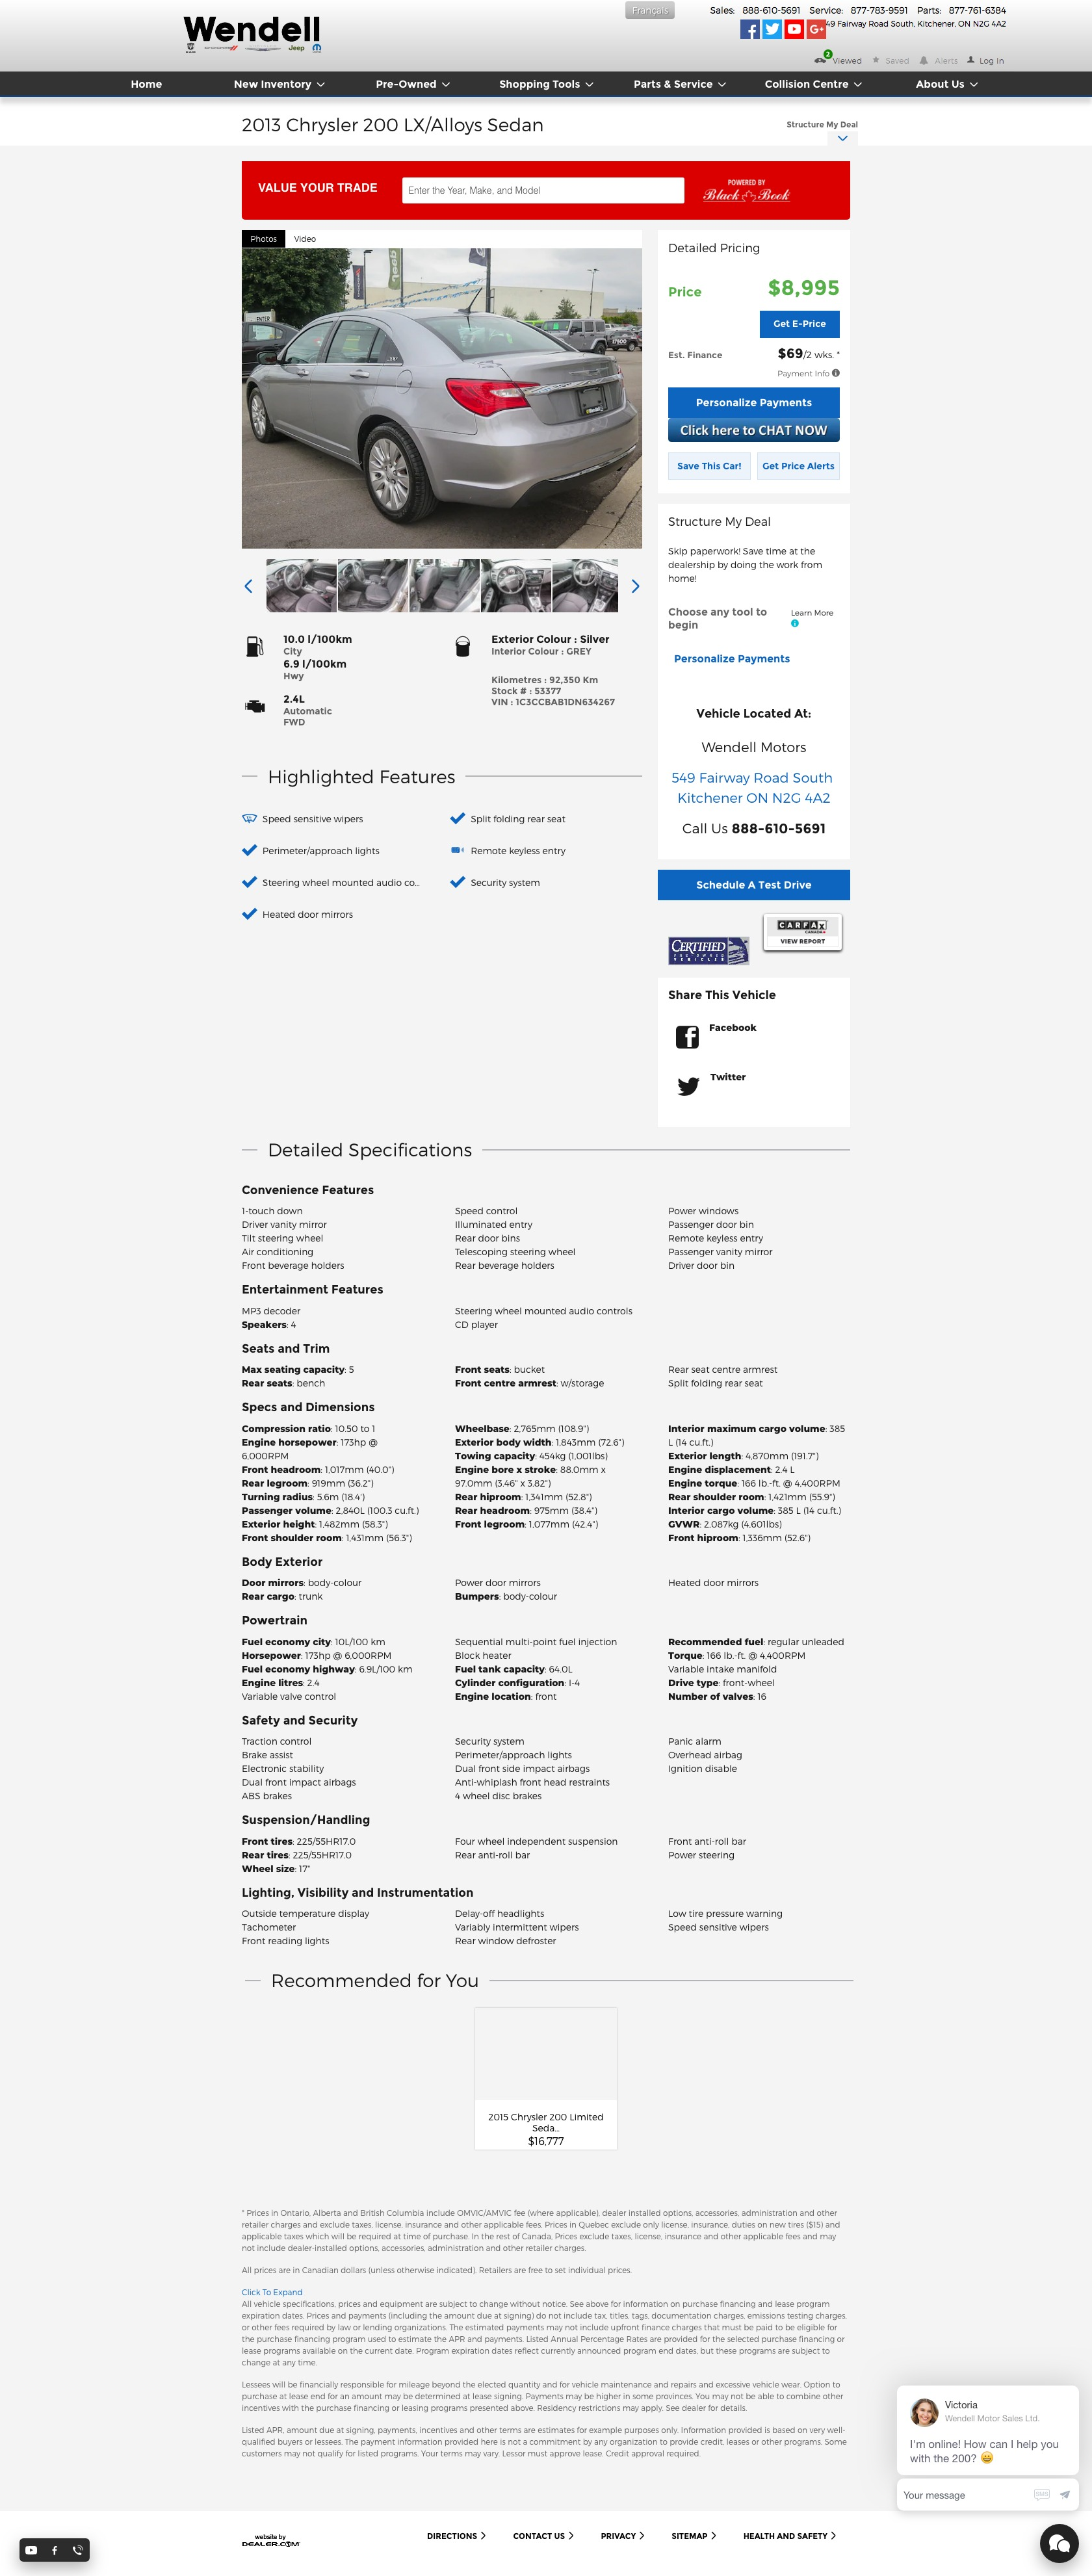car: (631, 578, 640, 595)
